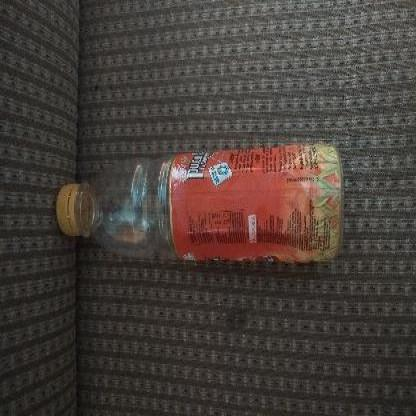plastic_bottles: (35, 135, 349, 269)
